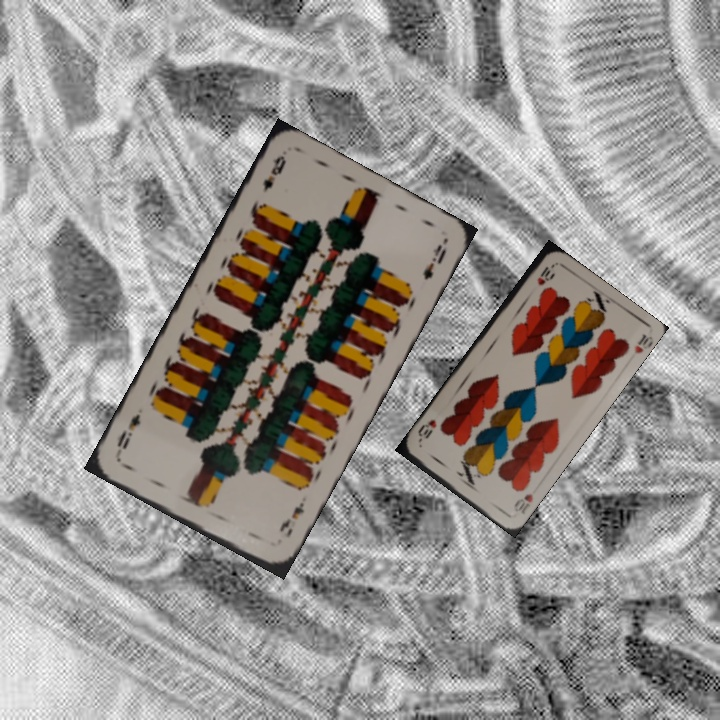E9: (258, 151, 289, 196), (275, 497, 307, 540)
H10: (510, 489, 536, 516), (533, 261, 556, 288)
